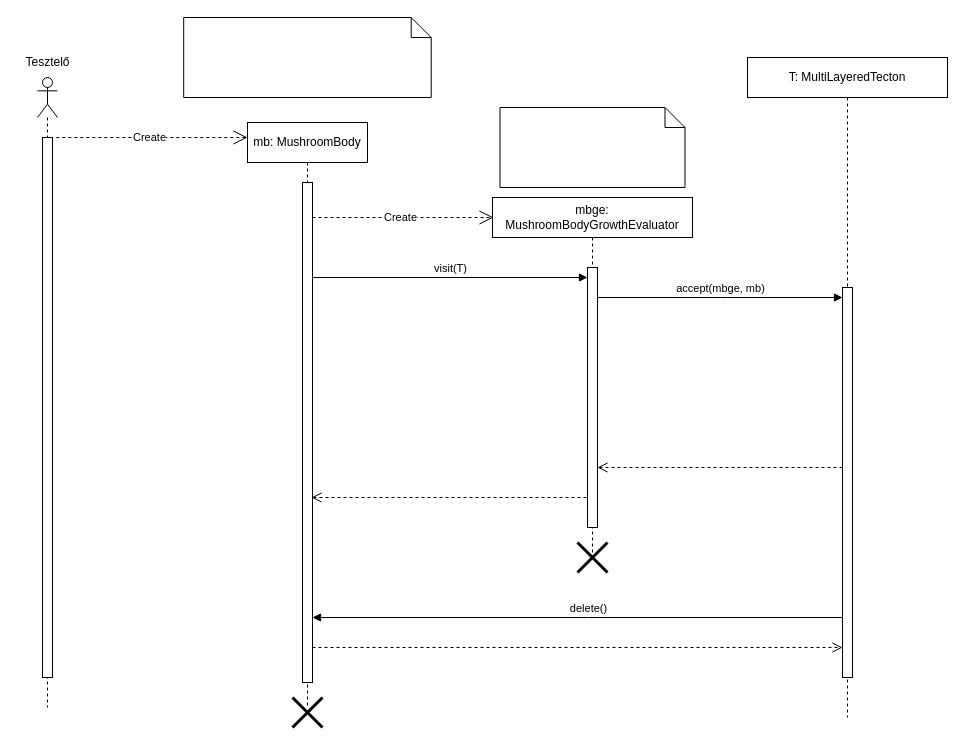
The diagram is 965 pixels wide and 746 high, and some of its shapes have lost their labels. The shapes that lost their labels are listed below. From the top down, each one's centre as x and y in pixels, then its label:
(307,57): mb megkapja a konstruktorában a T tectont ahova nőni szeretne
(592,147): mbge megkapja konstruktorában az mb MushroomBody-t amihez tartozik
